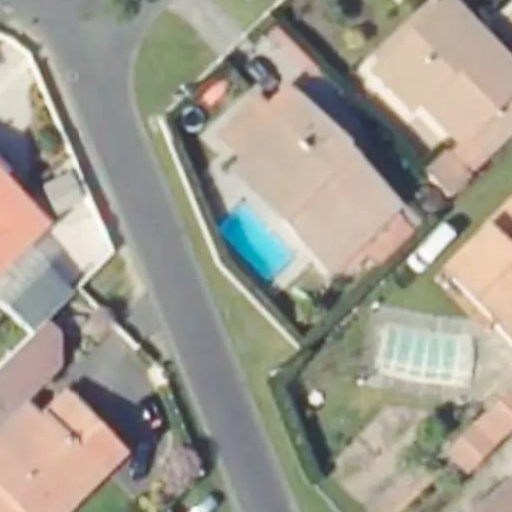pool: (214, 196, 301, 295)
